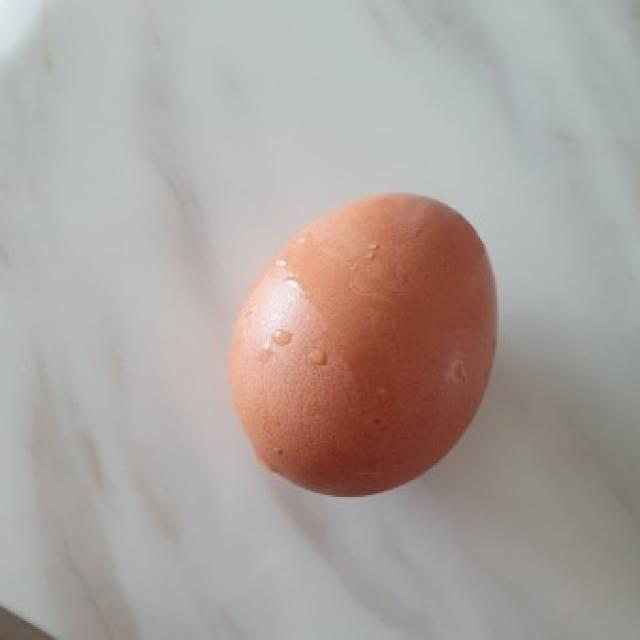eggs: (225, 186, 506, 506)
